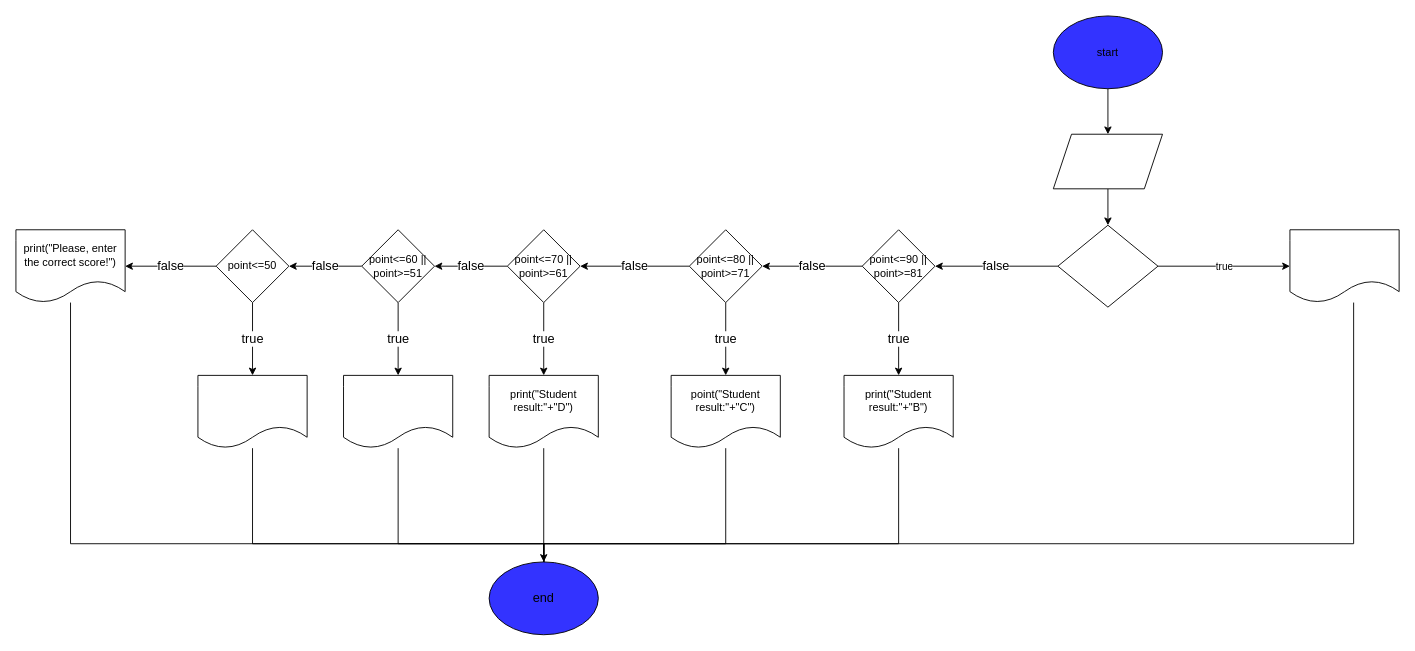
The diagram is 1415 pixels wide and 651 high, and some of its shapes have lost their labels. Each missing label, with the centre of its shape:
point<=100 || point>=91: [1107,265]
point=100: [1107,161]
print (“Student result:” + “A”);: [1344,266]
print("Student result:"+"E"): [398,411]
print("You failed the exam:("): [252,411]
